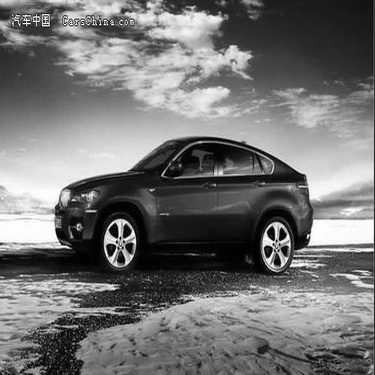car: (48, 128, 320, 276)
